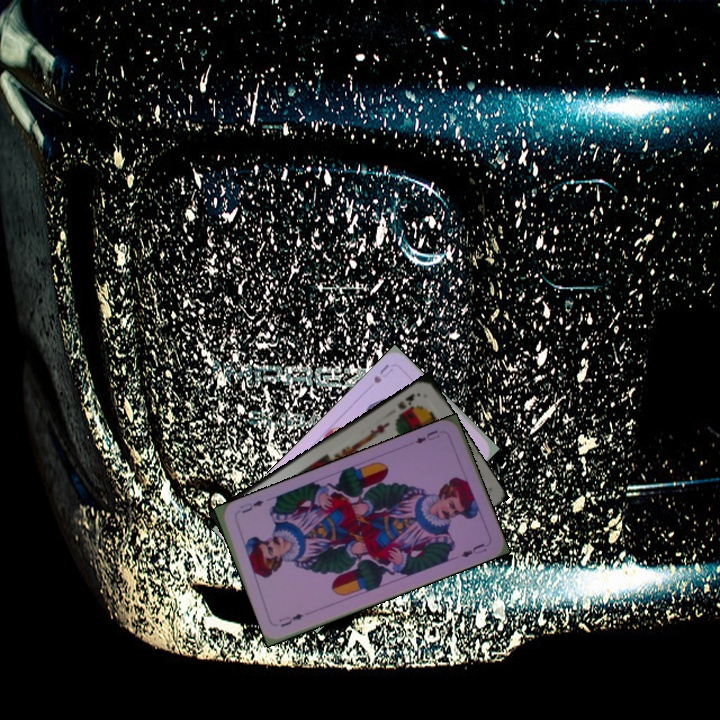EU: (275, 609, 306, 630), (411, 426, 442, 446)
SK: (393, 389, 417, 419)
SU: (369, 360, 396, 386)
